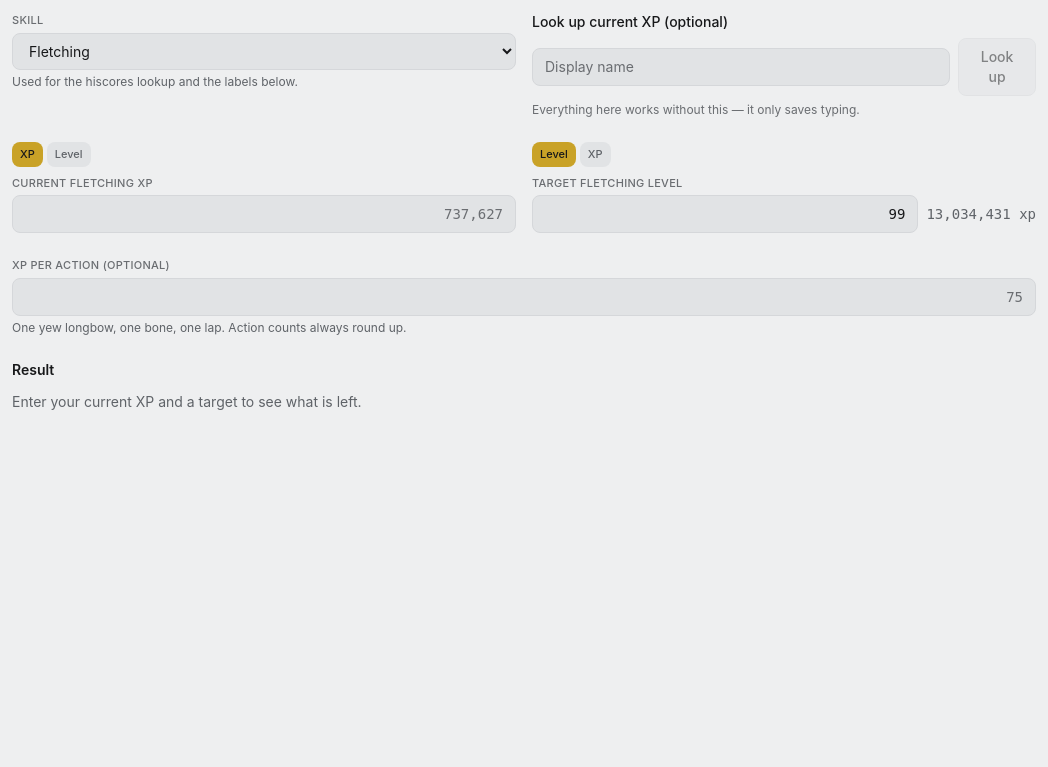
Test: XpCalculator › computes XP remaining from a current total and a target level
Type "737627" into the field labelled "Current Fletching XP" at (264, 214), box [12,195,516,233]
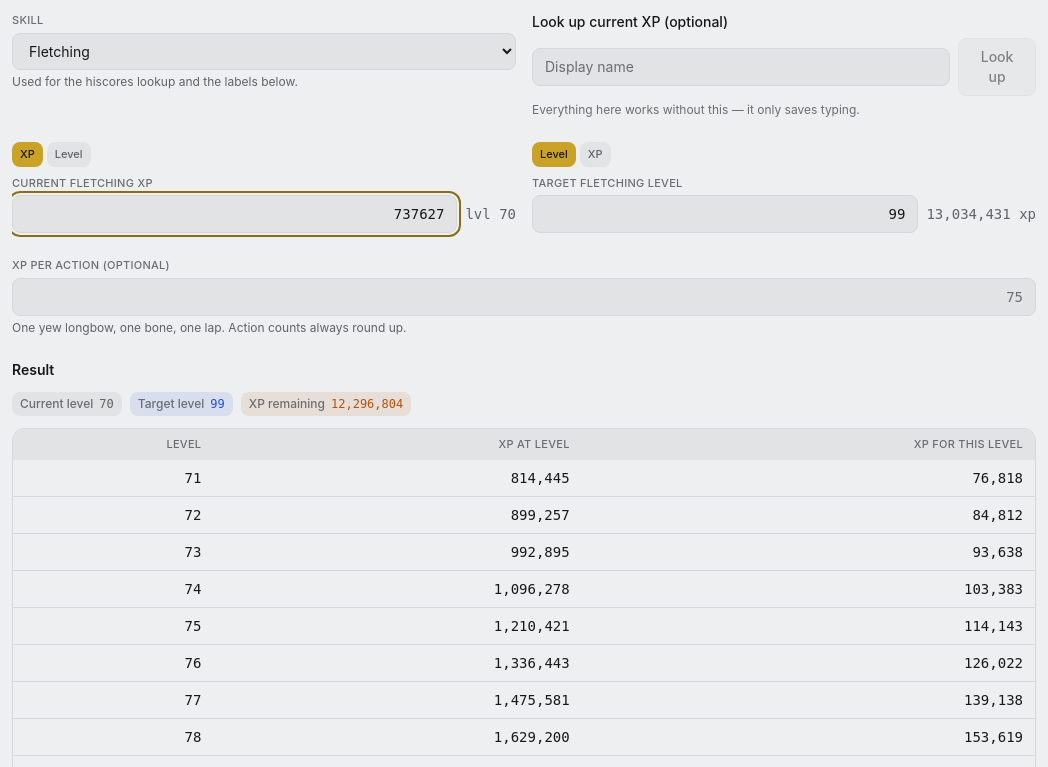
Check: the text "12,296,804" is shown, box [331,396,403,412]
Check: the text "70" is shown, box [99,396,114,412]
